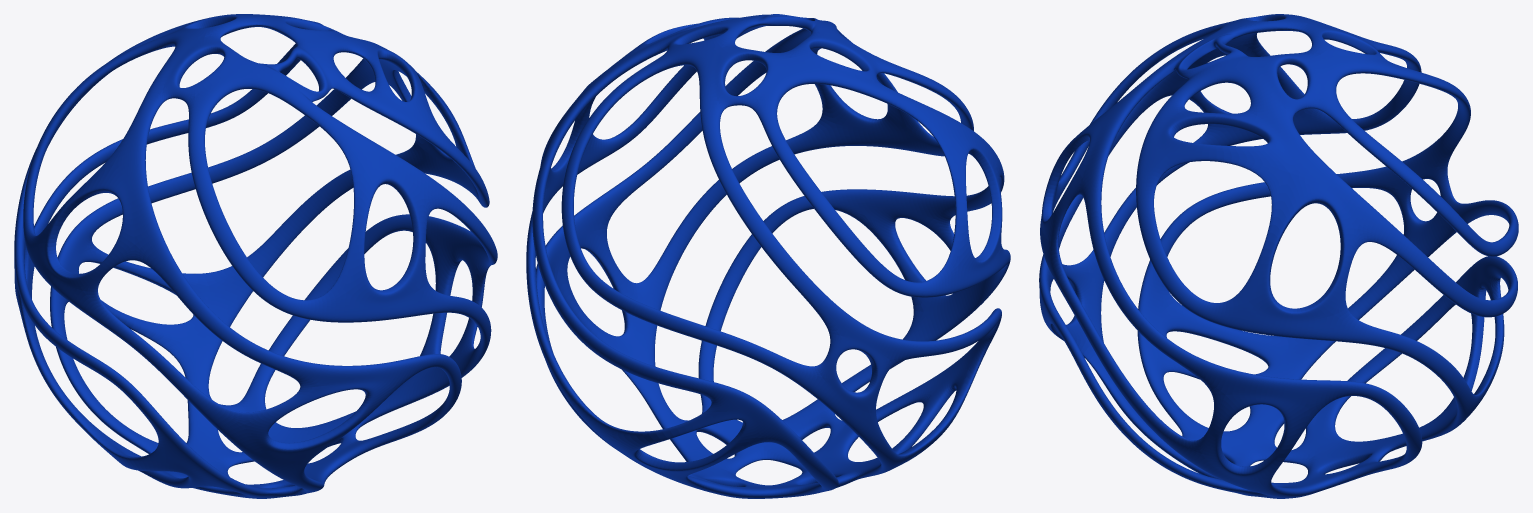
Rendered from arcane-sphere.glb.
3 views of the same model, side by side, from view 1: azimuth 30°, elevation 25°; view 2: azimuth 150°, elevation 25°; view 3: azimuth 270°, elevation 25° (orthographic).
Visible parts, largest first — view 1: arcane-sphere; view 2: arcane-sphere; view 3: arcane-sphere.
Part boxes in pixels (left/top/right/bottom): arcane-sphere: left=14, top=14, right=497, bottom=498; arcane-sphere: left=526, top=14, right=1010, bottom=498; arcane-sphere: left=1039, top=14, right=1518, bottom=498.
Bounding box in the file's own units: 3.1 × 3.12 × 3.1.
